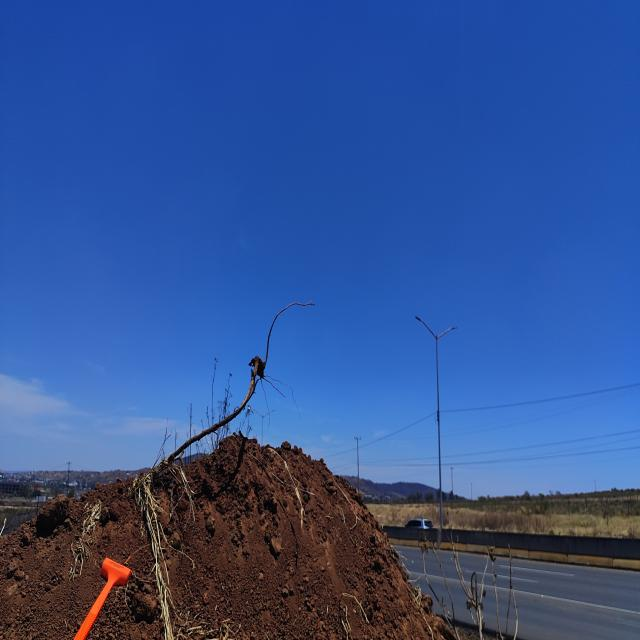Orange_hammer: (73, 555, 132, 638)
